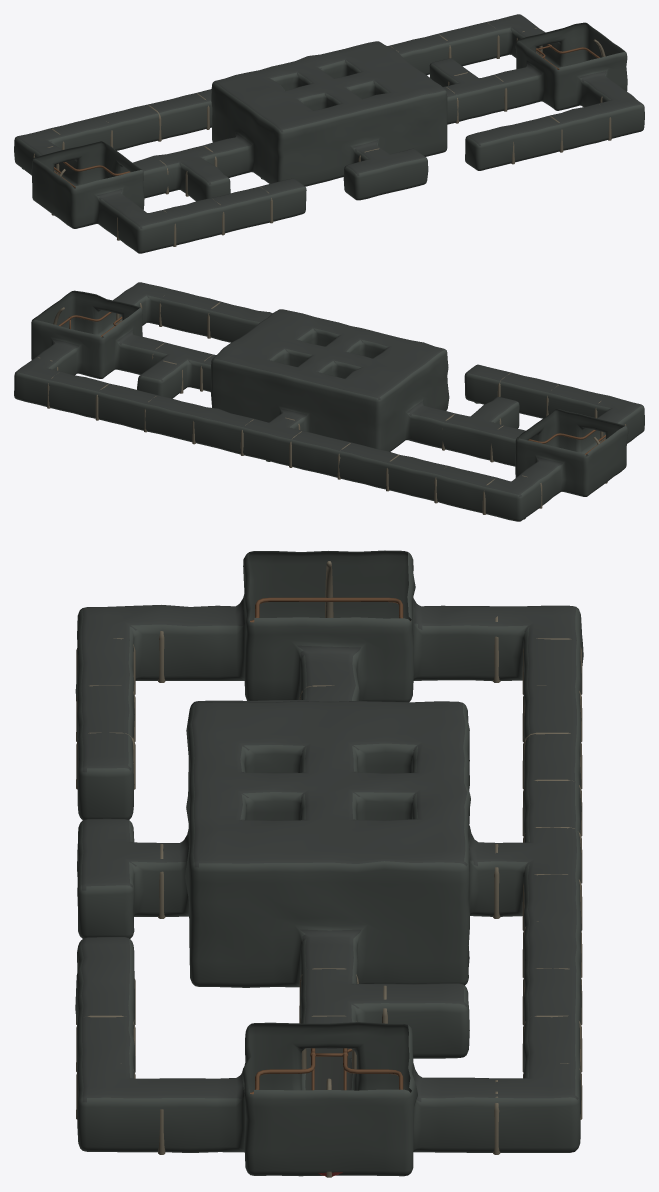
Rendered from alienship.fbx.
The picture shows the model from 3 angles, top to bottom: view 1: azimuth 30°, elevation 25°; view 2: azimuth 150°, elevation 25°; view 3: azimuth 270°, elevation 25°; orthographic projection. The views are drawn at different scales.
Visible parts, largest first — view 1: AlienShip; view 2: AlienShip; view 3: AlienShip.
Part boxes in pixels (<box>): AlienShip: <box>14,14,644,253</box>; AlienShip: <box>14,282,644,521</box>; AlienShip: <box>75,550,583,1177</box>.
Size of the model in its own units: 9238 by 1038 by 3643.
